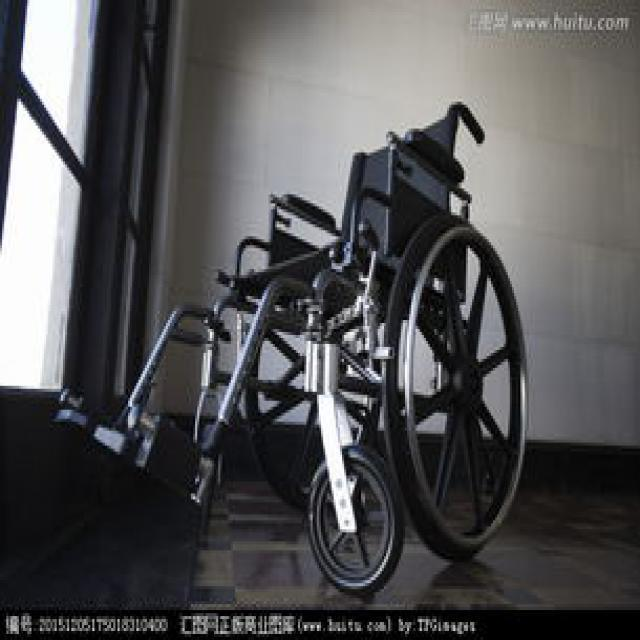wheelchairs: (83, 106, 524, 594)
